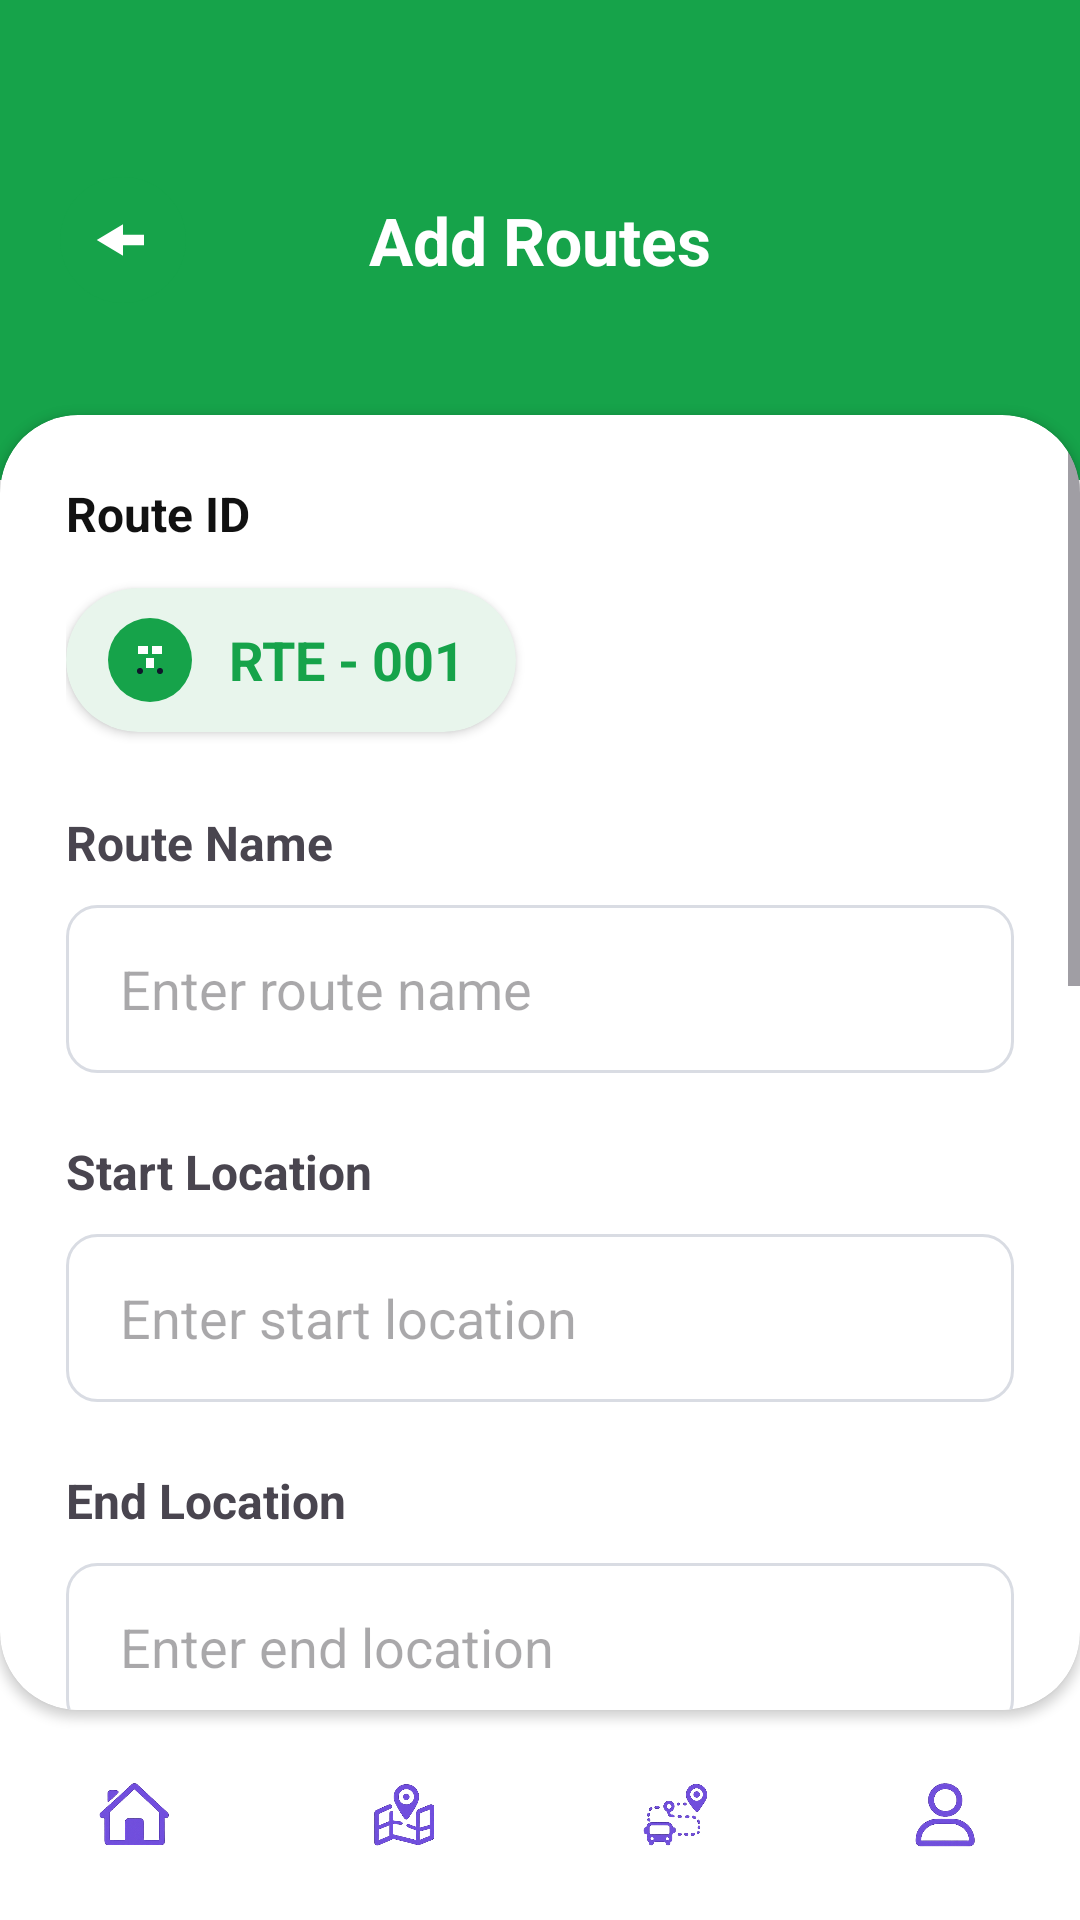

Named icons in this screenshot (1080px x 1920px) and their centers, (x=x, y=y):
back: (x=120, y=240)
home: (x=134, y=1814)
map: (x=404, y=1815)
profile: (x=945, y=1815)
routes: (x=675, y=1815)
